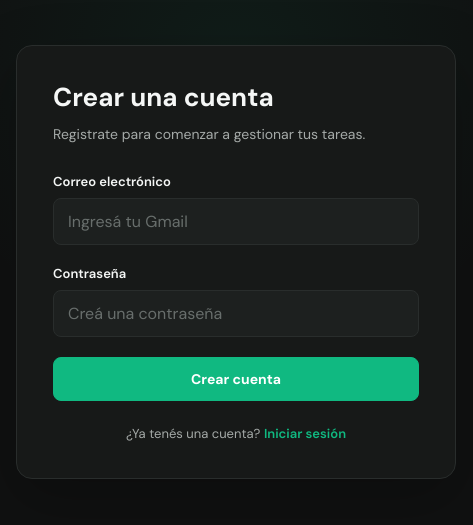
Test case: Register Component › 4. Error durante el registro: muestra mensaje de error y no navega a /tareas
Type "user@example.com" into the field labelled "Correo electrónico" at (236, 221), box [53,198,419,245]
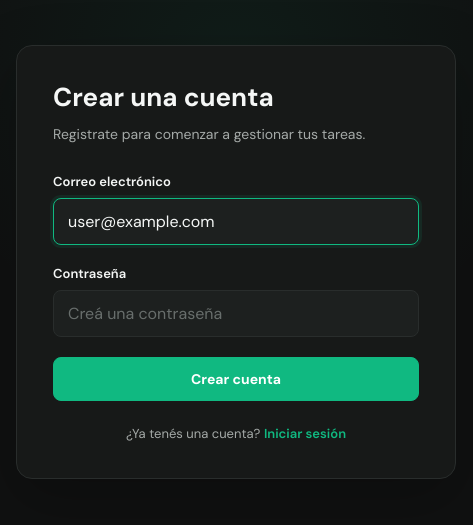
Type "password123" into the password field labelled "Contraseña" at (236, 313), box [53,290,419,337]
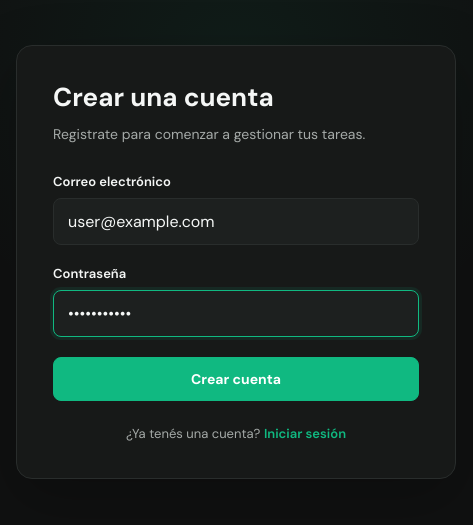
Click the button "Crear cuenta" at (236, 379), box [53,357,419,401]
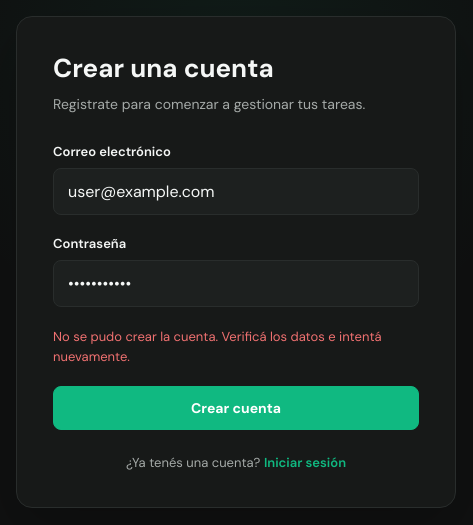
Now the text "No se pudo crear la cuenta. Verificá los datos e intentá nuevamente." is shown, box [53,327,419,366]
